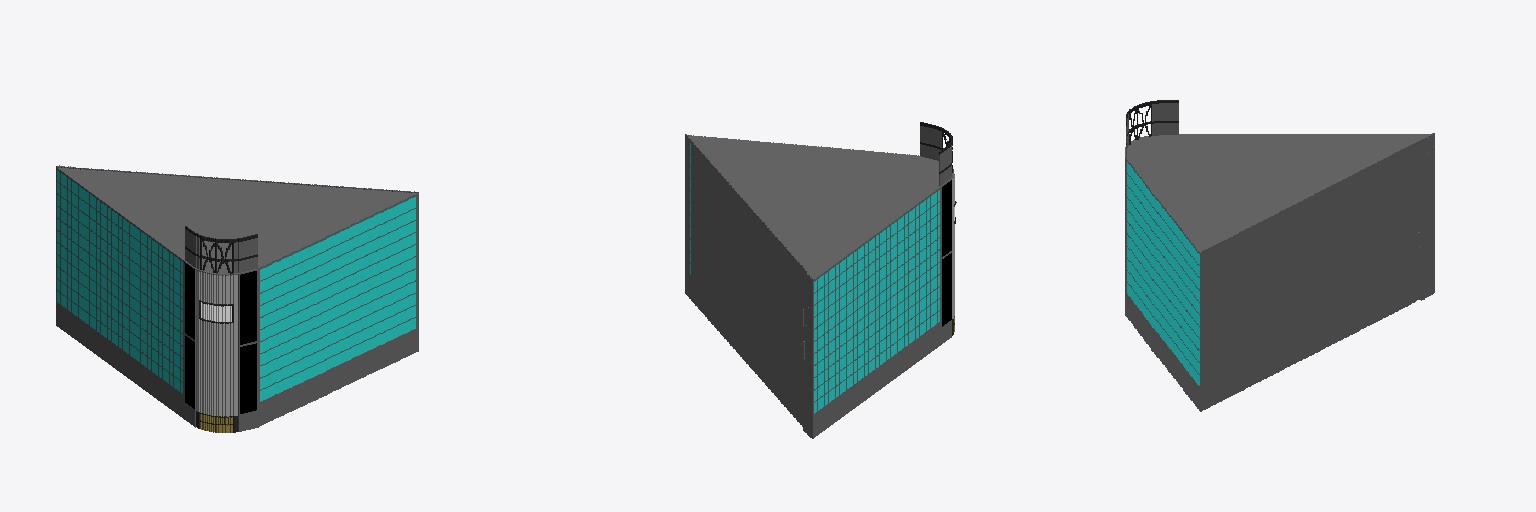
The picture shows the model from 3 angles: view 1: azimuth 30°, elevation 25°; view 2: azimuth 150°, elevation 25°; view 3: azimuth 270°, elevation 25°; orthographic projection.
Parts seen in each view (by area): view 1: object 1; view 2: object 1; view 3: object 1.
Boxes of the visible parts, <box> form: object 1: <box>56,165,418,432</box>; object 1: <box>685,122,956,438</box>; object 1: <box>1125,100,1434,411</box>.
Bounding box in the file's own units: 23.3 × 17.5 × 25.6.
Materials: 1 (1 with a texture image).